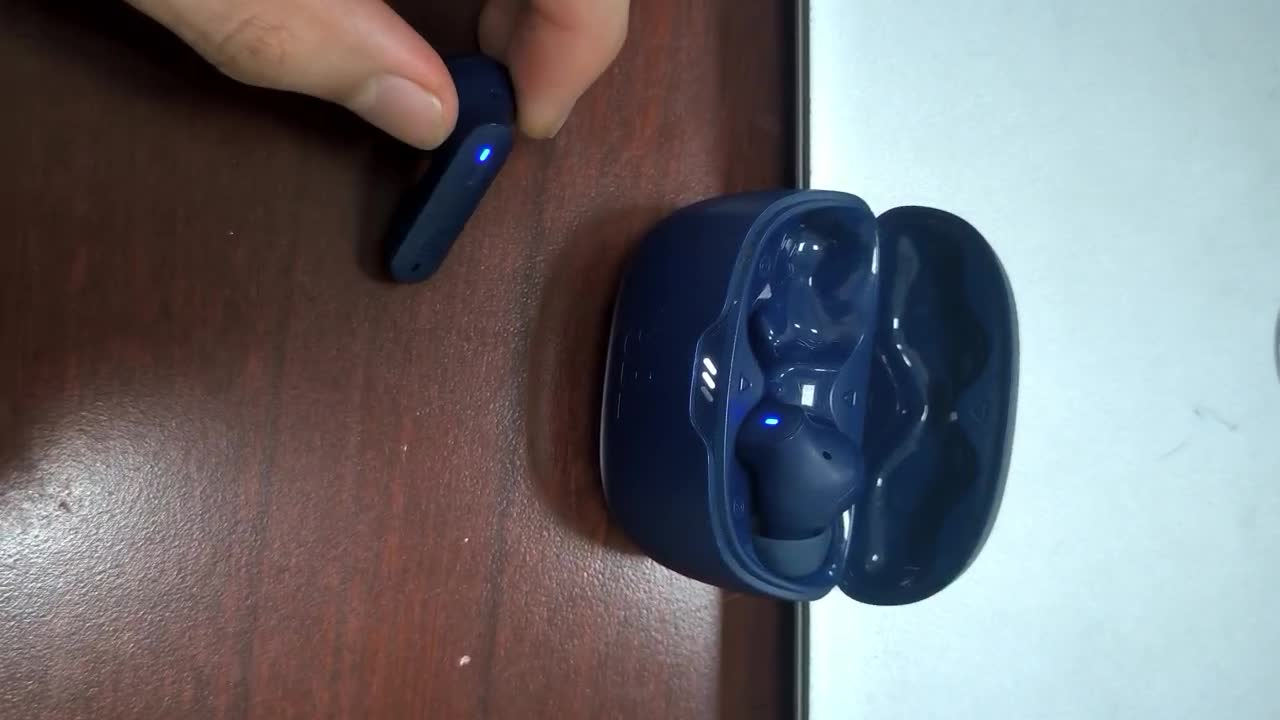Case: (593, 184, 1014, 608)
Earbud: (386, 55, 513, 282), (736, 400, 863, 576)
Empty_Slot: (737, 200, 878, 376)
